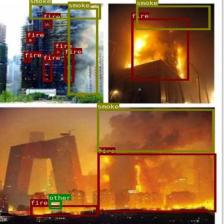fire: (97, 153, 216, 212), (131, 18, 188, 80), (30, 205, 98, 216), (64, 54, 74, 82), (42, 60, 52, 81), (42, 19, 52, 28), (26, 37, 33, 43), (55, 48, 62, 54), (24, 57, 31, 62)
smoke: (97, 108, 214, 152), (68, 7, 98, 95), (136, 5, 210, 30), (29, 3, 100, 19)
